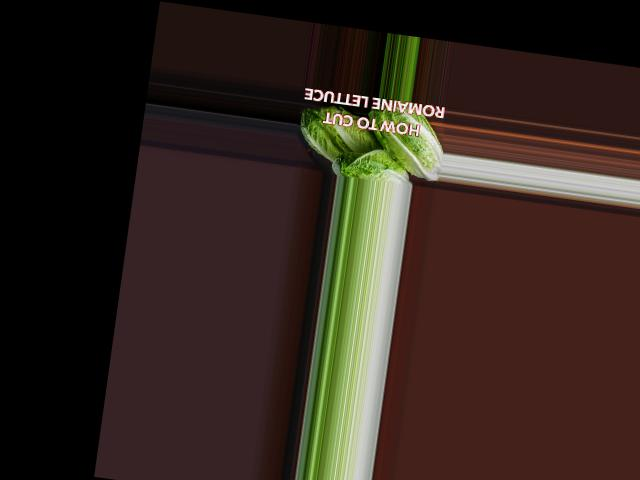lettuce: (291, 94, 392, 174)
